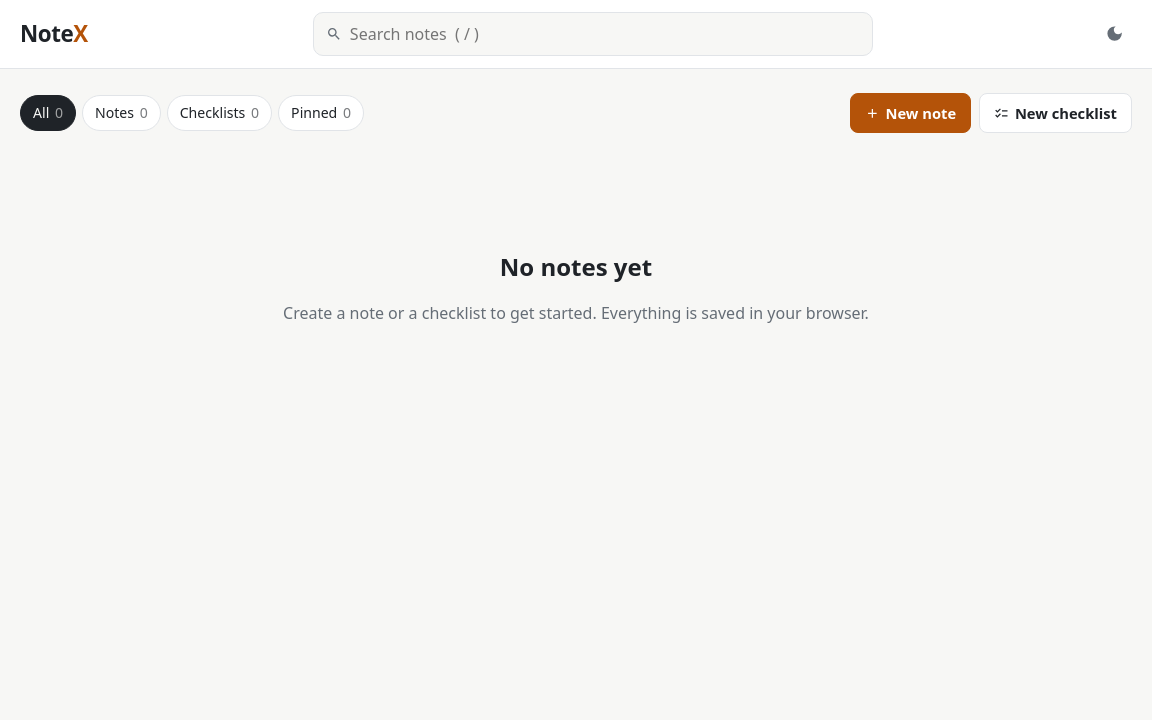
Test: App › edits an existing note
The image size is (1152, 720).
Click the button "New note" at (910, 113), box top-left (850, 93), bottom-right (971, 133)
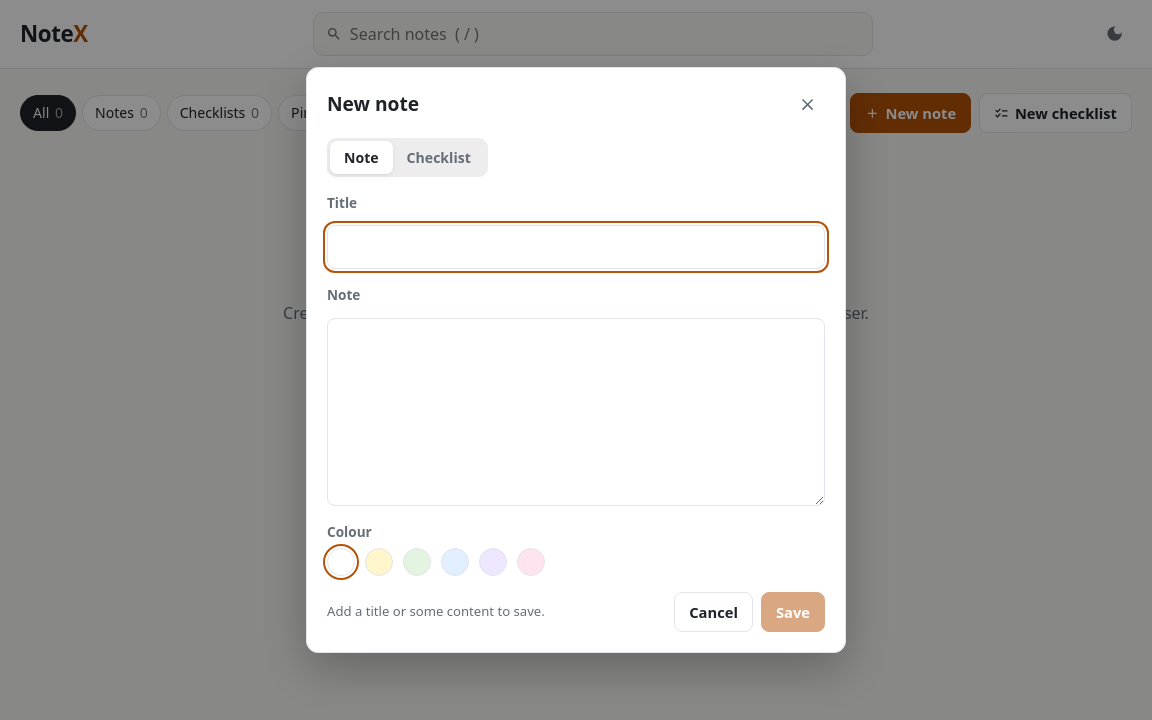
Type "Draft" into the field labelled "Title" at (576, 247), box top-left (327, 225), bottom-right (825, 269)
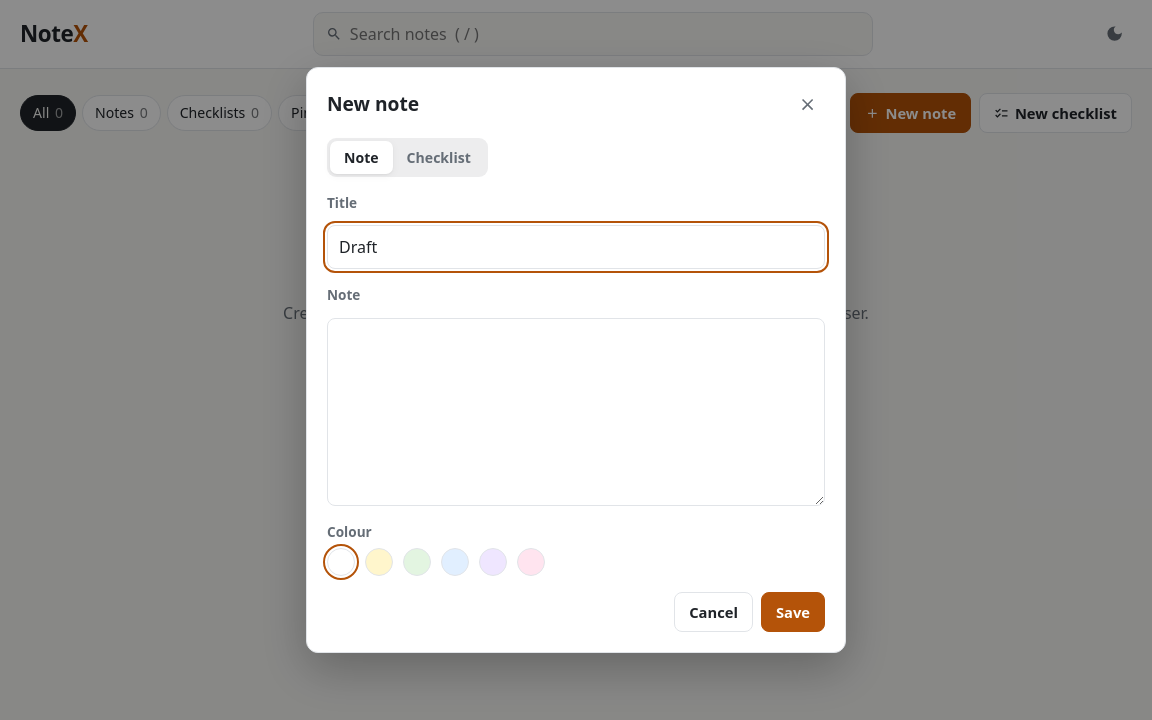
Click the button "Save" at (793, 612), box top-left (761, 592), bottom-right (825, 632)
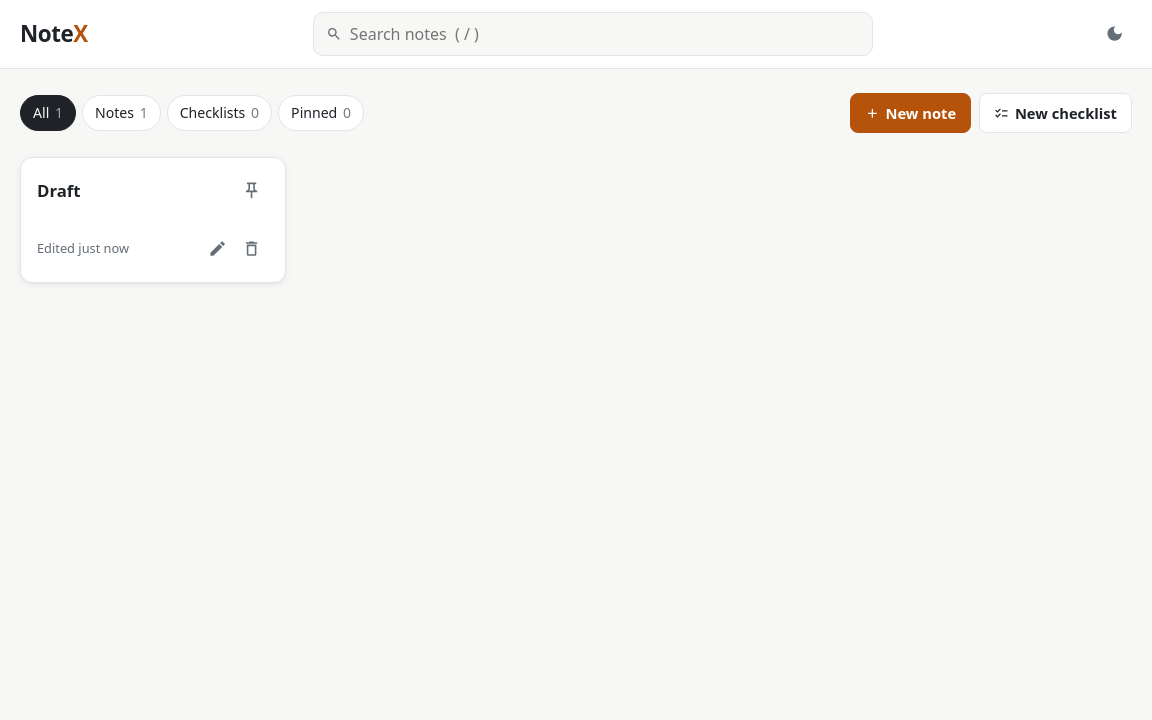
Click the button named "Edit Draft" at (218, 249), box top-left (201, 232), bottom-right (235, 266)
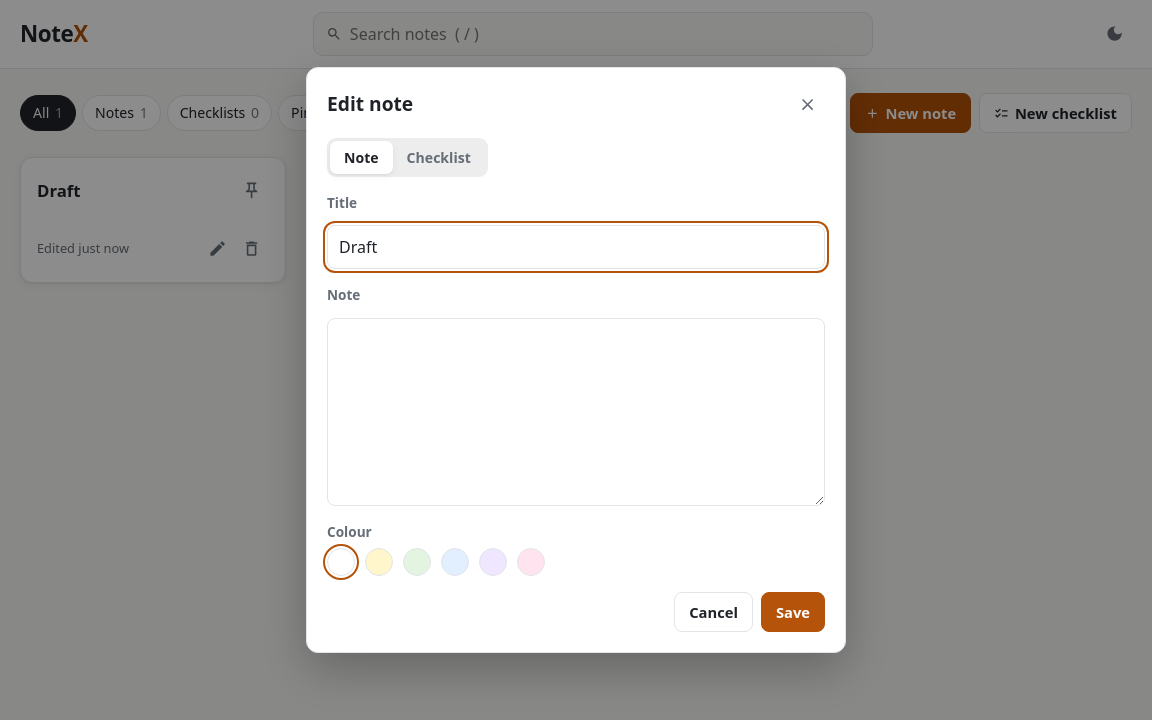
Replace the text in the field labelled "Title" with "Final" at (576, 247), box top-left (327, 225), bottom-right (825, 269)
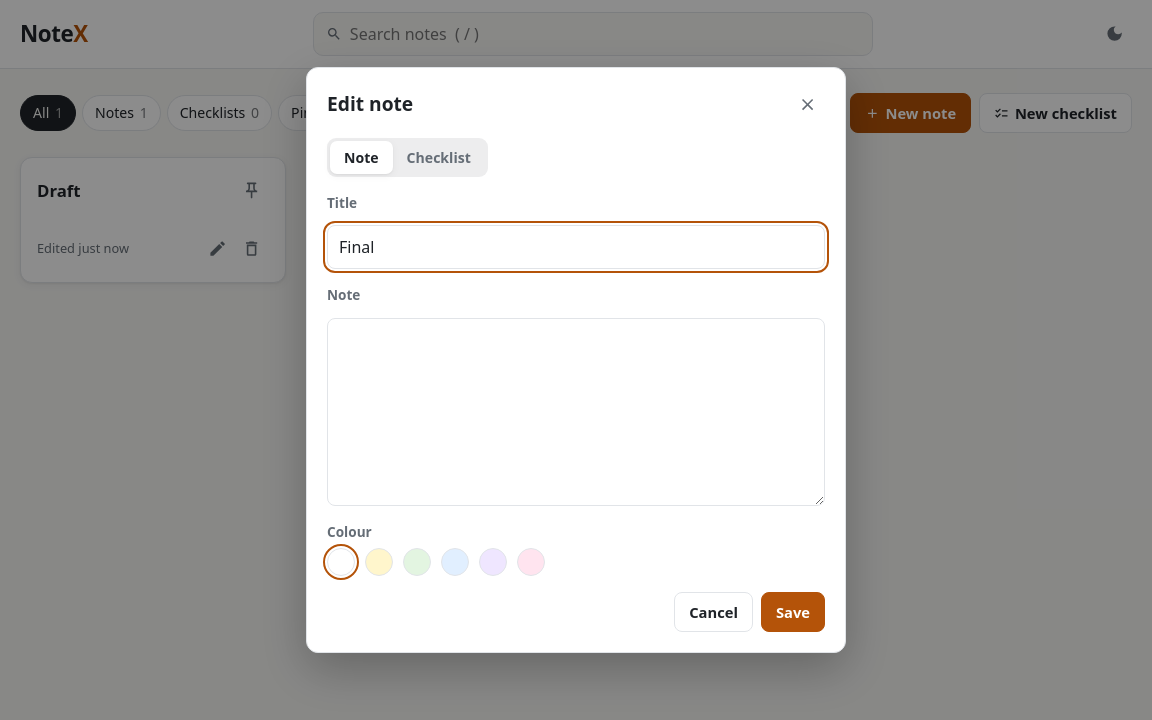
Click the button "Save" at (793, 612), box top-left (761, 592), bottom-right (825, 632)
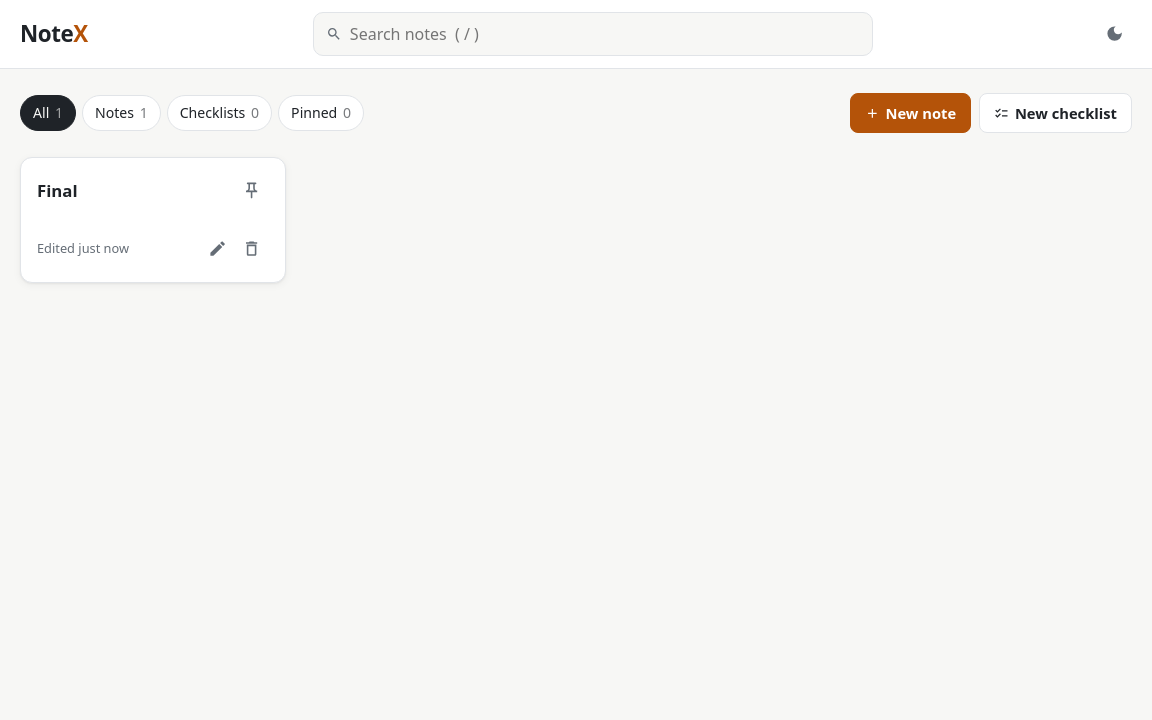
Expected: the element "Final" is shown, top-left (20, 157), bottom-right (286, 283)
Expected: the heading "Draft" is gone
